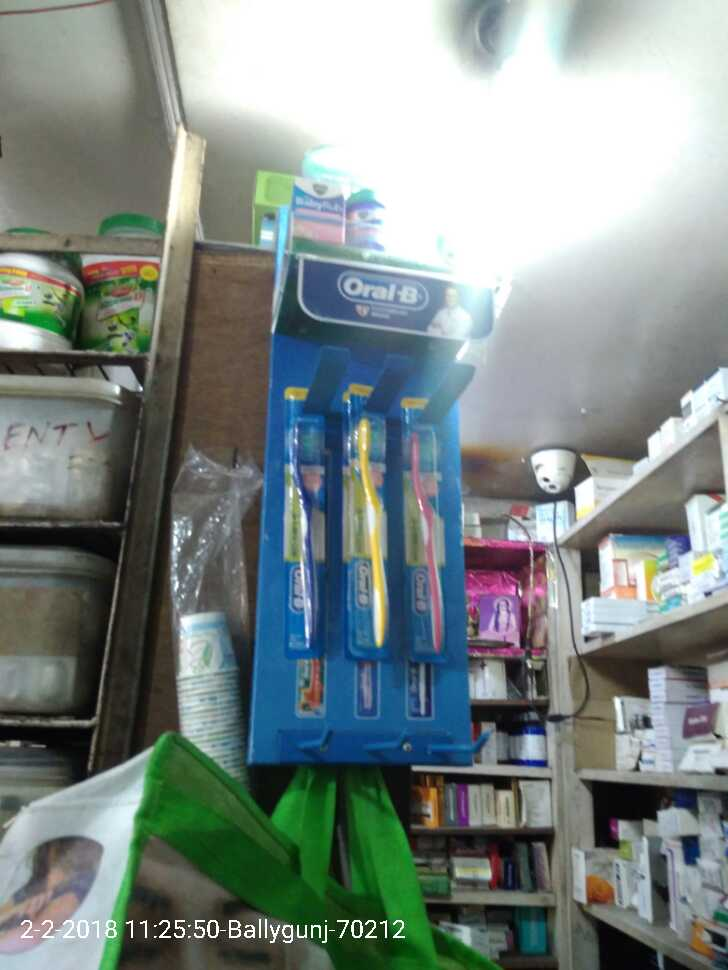oralb: (275, 383, 324, 664), (340, 407, 388, 675), (402, 411, 450, 665)
